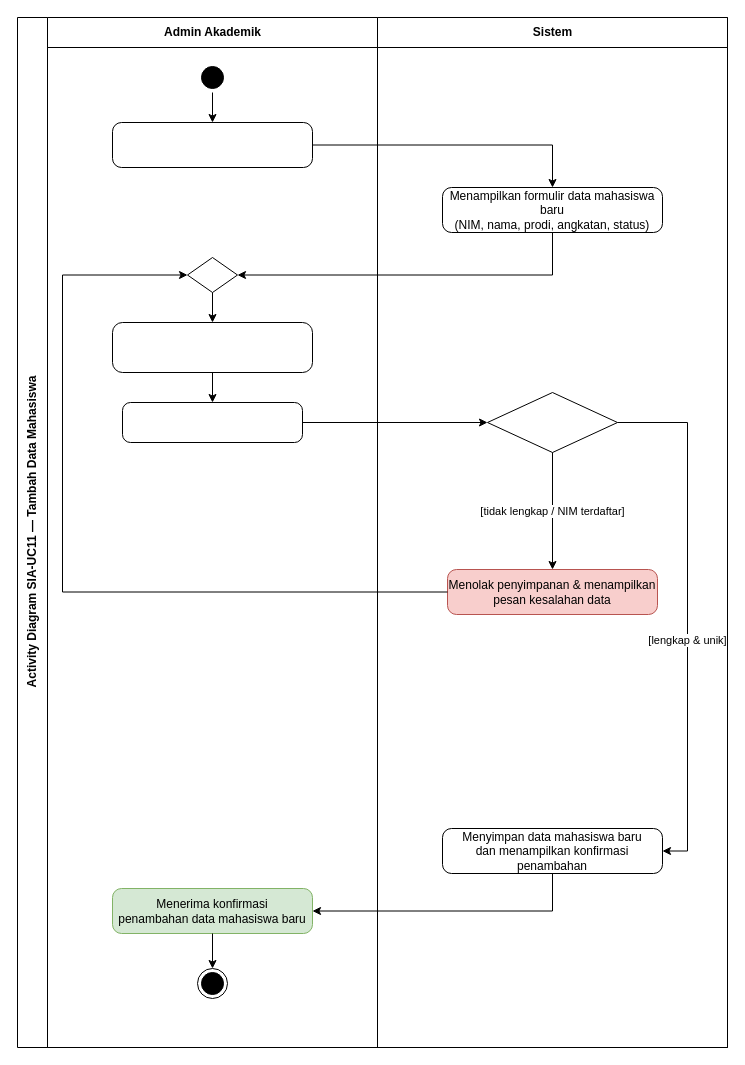
This 745x1065 diagram has some shape labels left out. Here are the shapes that lost their labels. From the top down, the centre of each, then its label:
point (212, 145): Memilih bentuk Tambah Data Mahasiswa pada fungsi Kelola Data Mahasiswa
point (212, 347): Mengisi formulir data mahasiswa baru (NIM, nama, prodi, angkatan, status)
point (212, 422): Menyimpan data
point (552, 422): Data lengkap & NIM unik?
